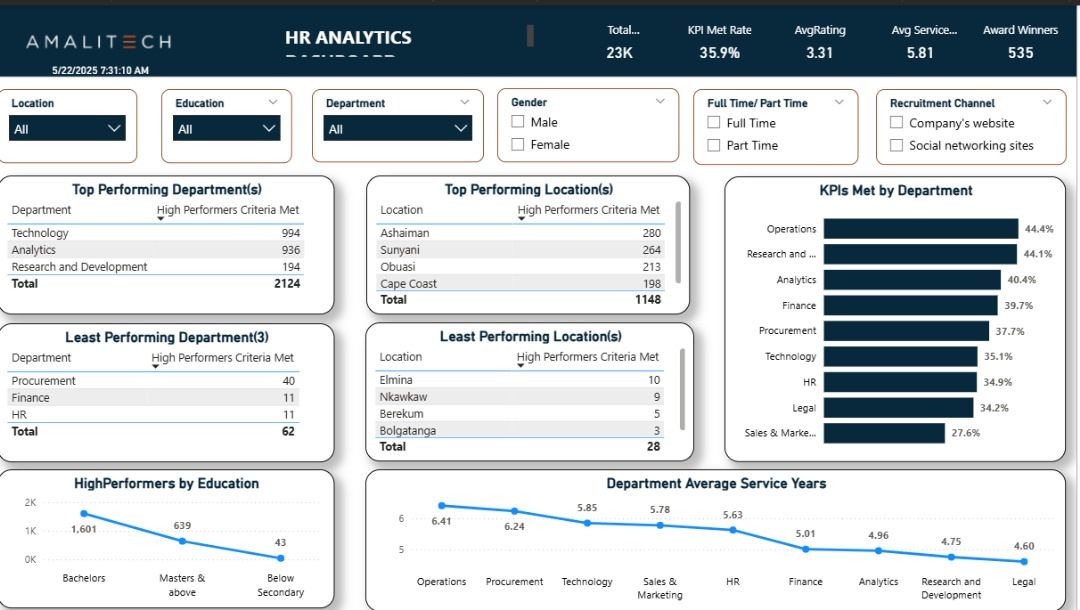

The dashboard page shown, as its layout file describes it:
{"tool":"powerbi","page":{"name":"Performance Insight","canvas":[1280,720],"ordinal":2},"visuals":[{"type":"textbox","box":[336,17.7,304.7,47.6],"z":0},{"type":"slicer","fields":{"Values":["Altera_Emp_Data.Gender"]},"box":[593.1,97.9,216.3,88.4],"z":1000},{"type":"slicer","fields":{"Values":["Altera_Emp_Data.Education"]},"box":[194.5,99.3,155.1,88.4],"z":2000},{"type":"slicer","fields":{"Values":["Altera_Emp_Data.Department"]},"box":[372.7,99.3,204,87.1],"z":3000},{"type":"slicer","fields":{"Values":["Altera_Emp_Data.Location"]},"box":[0,99.3,166,88.4],"z":4000},{"type":"card","title":"Total Awards Won","fields":{"Values":["Altera_Emp_Data.current_date"]},"box":[27.3,63.4,188.9,24],"z":5000},{"type":"slicer","fields":{"Values":["Altera_Emp_Data.FT/PT"]},"box":[825.7,99.3,195.9,89.8],"z":6000},{"type":"barChart","title":"KPIs Met by Department","fields":{"Category":["Altera_Emp_Data.Department"],"Y":["MeasureTable.KPIMetRate"]},"box":[862.4,202.7,405.4,338.7],"z":7000},{"type":"cardVisual","fields":{"Data":["MeasureTable.TotalEmployees","MeasureTable.KPIMetRate","MeasureTable.AvgRating","MeasureTable.AvgServiceYears","MeasureTable.AwardWinners"]},"box":[674.7,0,605.3,85],"z":8000},{"type":"slicer","fields":{"Values":["Altera_Emp_Data.Recruitment_Channell"]},"box":[1042,99.3,225.8,89.8],"z":9000},{"type":"tableEx","title":"Top Performing Location(s)","fields":{"Values":["Altera_Emp_Data.Location","MeasureTable.HighPerformers"]},"box":[438,202,383.6,164.6],"z":10000},{"type":"actionButton","box":[763.1,442.1,46.2,39.4],"z":11000},{"type":"tableEx","title":"Top Performing Department(s)","fields":{"Values":["Altera_Emp_Data.Department","MeasureTable.HighPerformers"]},"box":[0,202,400,165],"z":12000},{"type":"tableEx","title":"Least Performing Department(3)","fields":{"Values":["Altera_Emp_Data.Department","MeasureTable.HighPerformers"]},"box":[0,377.5,400,164.6],"z":13000},{"type":"tableEx","title":"Least Performing Location(s)","fields":{"Values":["Altera_Emp_Data.Location","MeasureTable.HighPerformers"]},"box":[436.6,376.5,390.4,164.6],"z":14000},{"type":"lineChart","fields":{"Category":["Altera_Emp_Data.Education"],"Y":["MeasureTable.HighPerformers"]},"box":[0,550.9,399.9,164.6],"z":15000},{"type":"lineChart","title":"Department Average Service Years","fields":{"Category":["Altera_Emp_Data.Department"],"Y":["Avg(Altera_Emp_Data.Length_of_Service)"]},"box":[436.6,550.9,831.1,168.7],"z":16000}]}

Visuals, with their boxes in screenshot pixels (x1, y1, x2, y2), scaled from the page's 1280x720 canvas onto the 1080x610 screenshot:
textbox: 284 15 541 55
slicer - Altera_Emp_Data.Gender: 500 83 683 158
slicer - Altera_Emp_Data.Education: 164 84 295 159
slicer - Altera_Emp_Data.Department: 314 84 487 158
slicer - Altera_Emp_Data.Location: 0 84 140 159
"Total Awards Won" card: 23 54 182 74
slicer - Altera_Emp_Data.FT/PT: 697 84 862 160
"KPIs Met by Department" barChart: 728 172 1070 459
cardVisual - MeasureTable.TotalEmployees x MeasureTable.KPIMetRate: 569 0 1079 72
slicer - Altera_Emp_Data.Recruitment_Channell: 879 84 1070 160
"Top Performing Location(s)" tableEx: 370 171 693 311
actionButton: 644 375 683 408
"Top Performing Department(s)" tableEx: 0 171 338 311
"Least Performing Department(3)" tableEx: 0 320 338 459
"Least Performing Location(s)" tableEx: 368 319 698 458
lineChart - Altera_Emp_Data.Education x MeasureTable.HighPerformers: 0 467 337 606
"Department Average Service Years" lineChart: 368 467 1070 609
